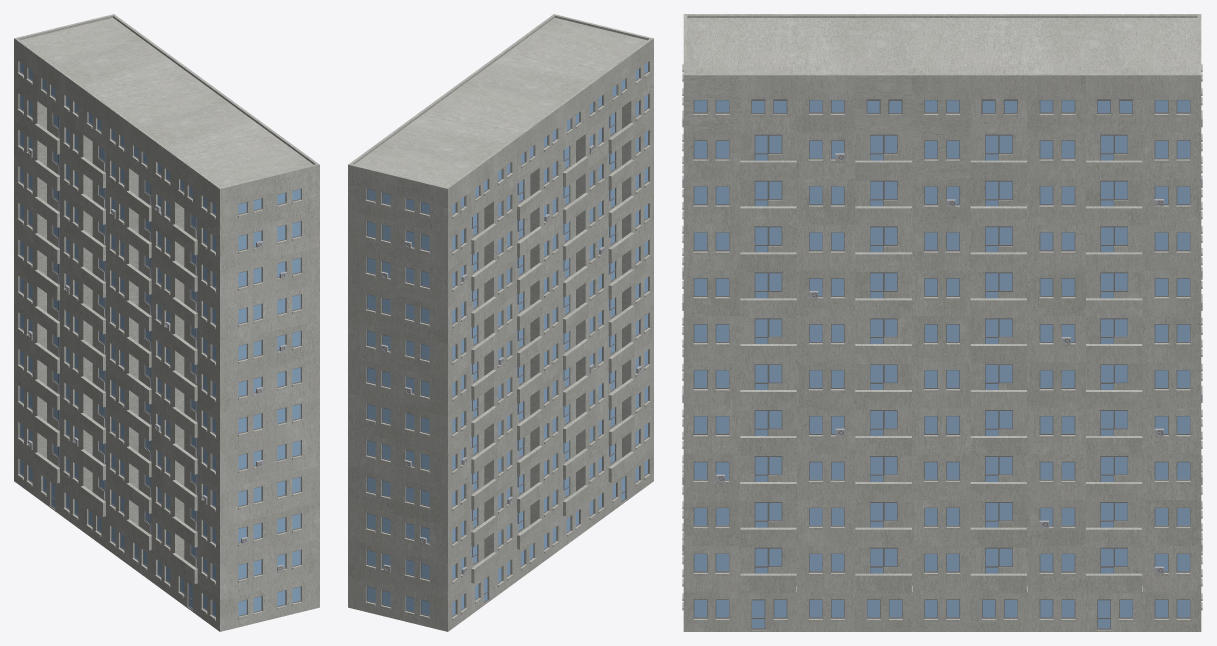
The model's file is cityscene2_09.gltf.
3 renders of one model, left to right at view 1: azimuth 30°, elevation 25°; view 2: azimuth 150°, elevation 25°; view 3: azimuth 270°, elevation 25°, orthographic. The views are drawn at different scales.
Visible parts, largest first — view 1: cityscene2_09; view 2: cityscene2_09; view 3: cityscene2_09.
Part boxes in pixels (x1,y1,x2,y2): cityscene2_09: [14, 14, 319, 631]; cityscene2_09: [348, 14, 653, 631]; cityscene2_09: [682, 14, 1202, 631].
Bounding box in the file's own units: 6.96 × 27.93 × 23.67.
Materials: 4 (1 with a texture image).
